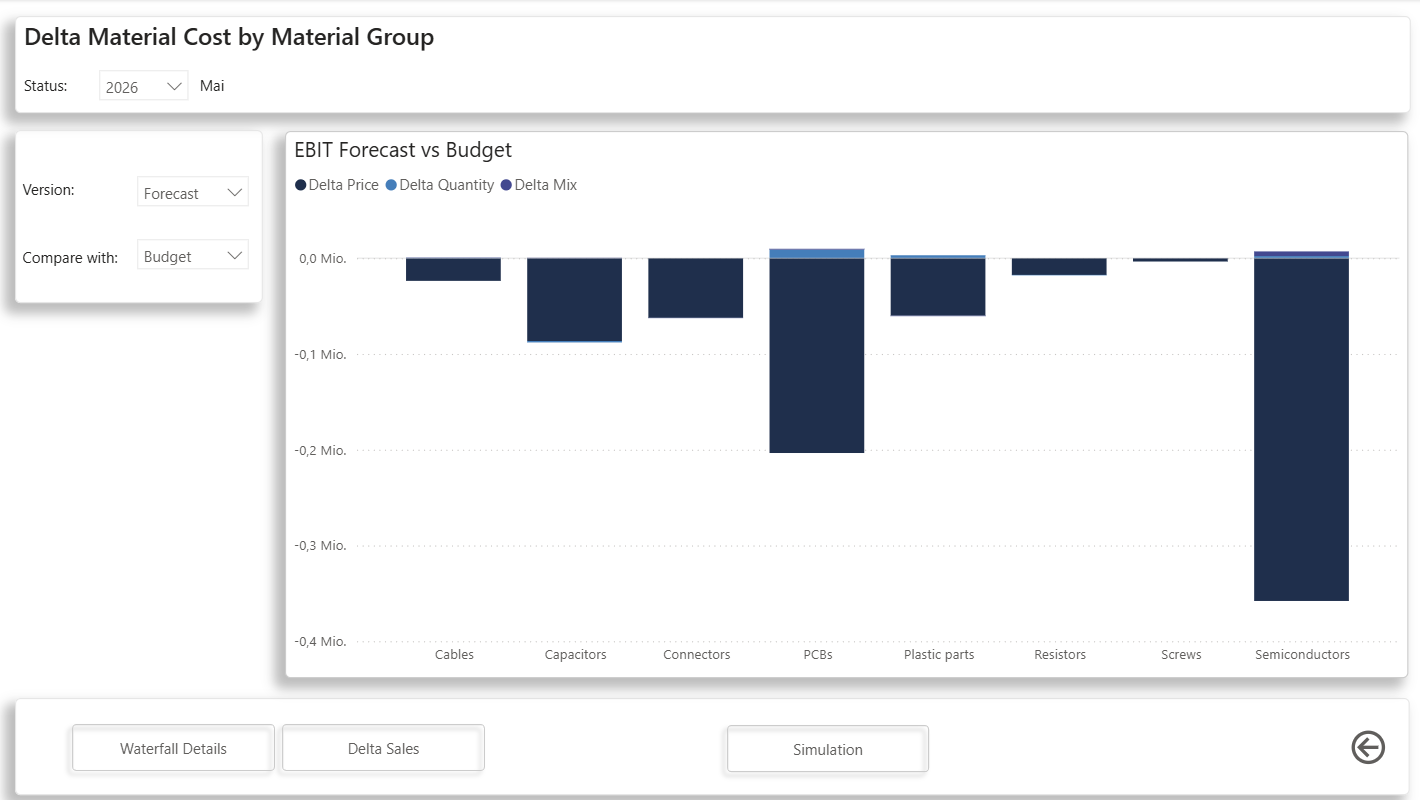

What the dashboard file says about the page in this screenshot:
{"tool":"powerbi","page":{"name":"Delta Material Cost by Material Group","canvas":[1280,720],"ordinal":3},"visuals":[{"type":"textbox","title":"Delta Material Cost by Material Group","box":[15,15,1249.9,87.1],"z":0},{"type":"cardVisual","title":"Card Month","fields":{"Data":["fact_calculated.Last Actual Month Name"]},"box":[165.5,53.8,110,45],"z":1000},{"type":"slicer","title":"Slicer Year","fields":{"Values":["dim_date2.Date Hierarchie.Year"]},"box":[80.5,53.8,100,45],"z":2000},{"type":"shape","title":"Box Filter","box":[15.3,117.7,221.9,155],"z":3000},{"type":"textbox","title":"Text Version","box":[17,156.8,67,31.5],"z":4000},{"type":"textbox","title":"Text Comparison","box":[17,217.4,105,30.9],"z":5000},{"type":"slicer","title":"Slicer Compare","fields":{"Values":["Comparison Version.Version"]},"box":[115,205.2,120,45],"z":6000},{"type":"slicer","title":"Slicer Original Version","fields":{"Values":["Original Version.Version"]},"box":[115,148.3,120,45],"z":7000},{"type":"shape","title":"Box Navigation","box":[15,626.3,1249,86.7],"z":8000},{"type":"actionButton","title":"Waterfall Details","box":[57.1,640,199.7,60.1],"z":9000},{"type":"actionButton","title":"Delta Sales by PG","box":[245.6,640,199.7,60.1],"z":10000},{"type":"actionButton","title":"Zurück","box":[1207,650,40,40.2],"z":12000},{"type":"actionButton","title":"Simulation","box":[644,640.9,199,60.3],"z":13000},{"type":"columnChart","fields":{"Y":["Metrics.mDeltaMaterialPrice","Metrics.mDeltaMaterialQuantity","Metrics.mDeltaMaterialMix"],"Category":["dim_material.Material_Group","dim_material.Material_Name"]},"box":[257.5,117.8,1006.1,490.3],"z":14000}]}

Visuals, with their boxes in screenshot pixels (x1, y1, x2, y2), scaled from the page's 1280x720 canvas onto the 1420x800 screenshot:
"Delta Material Cost by Material Group" textbox: select_region(17, 17, 1403, 113)
"Card Month" cardVisual: select_region(184, 60, 306, 110)
"Slicer Year" slicer: select_region(89, 60, 200, 110)
"Box Filter" shape: select_region(17, 131, 263, 303)
"Text Version" textbox: select_region(19, 174, 93, 209)
"Text Comparison" textbox: select_region(19, 242, 135, 276)
"Slicer Compare" slicer: select_region(128, 228, 261, 278)
"Slicer Original Version" slicer: select_region(128, 165, 261, 215)
"Box Navigation" shape: select_region(17, 696, 1402, 792)
"Waterfall Details" actionButton: select_region(63, 711, 285, 778)
"Delta Sales by PG" actionButton: select_region(272, 711, 494, 778)
"Zurück" actionButton: select_region(1339, 722, 1383, 767)
"Simulation" actionButton: select_region(714, 712, 935, 779)
columnChart - Metrics.mDeltaMaterialPrice x Metrics.mDeltaMaterialQuantity: select_region(286, 131, 1402, 676)
